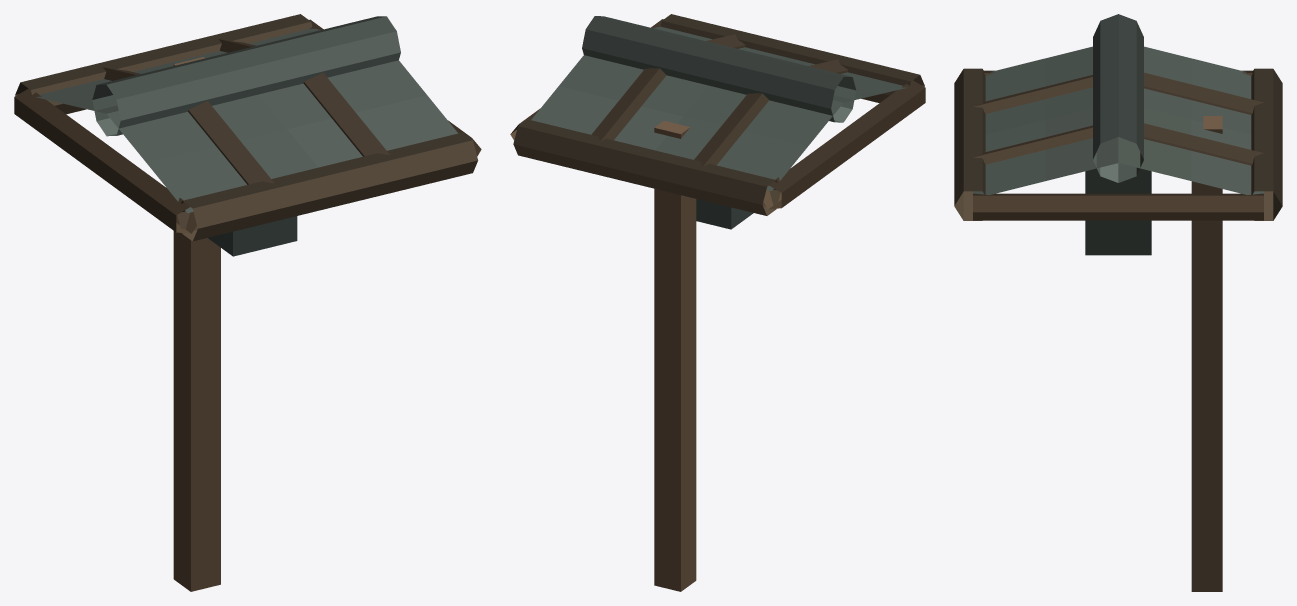
3 views of the same model, side by side, from view 1: azimuth 30°, elevation 25°; view 2: azimuth 150°, elevation 25°; view 3: azimuth 270°, elevation 25° (orthographic). The views are drawn at different scales.
Parts seen in each view (by area): view 1: 83081628757f1210e040343122ce3af5497cc83ae606e8e0e171cea48615; view 2: 83081628757f1210e040343122ce3af5497cc83ae606e8e0e171cea48615; view 3: 83081628757f1210e040343122ce3af5497cc83ae606e8e0e171cea48615.
Boxes of the visible parts, x1,y1,x2,y2 form: 83081628757f1210e040343122ce3af5497cc83ae606e8e0e171cea48615: (14, 14, 481, 591); 83081628757f1210e040343122ce3af5497cc83ae606e8e0e171cea48615: (510, 14, 925, 591); 83081628757f1210e040343122ce3af5497cc83ae606e8e0e171cea48615: (954, 14, 1282, 591).
Size of the model in its own units: 1.43 by 2.54 by 1.48.
Materials: 6 (1 with a texture image).
